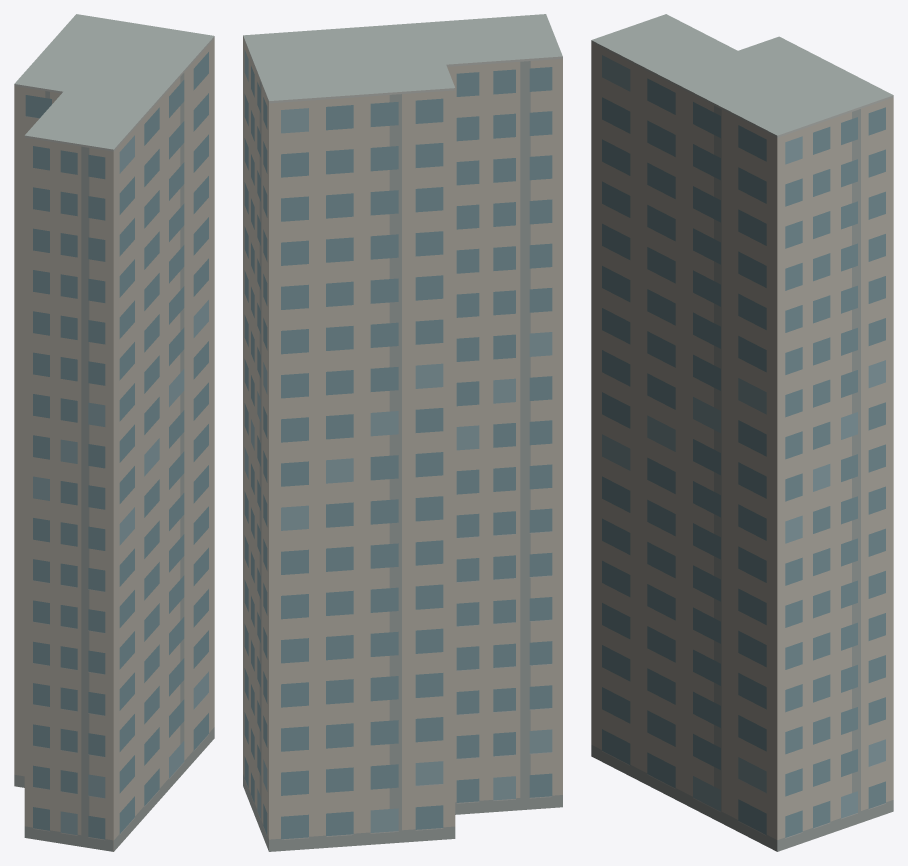
File: residential-17f8a116-d87b-46d9-9f4f-7ead25c6e567.glb
3 views of the same model, side by side, from view 1: azimuth 30°, elevation 25°; view 2: azimuth 150°, elevation 25°; view 3: azimuth 270°, elevation 25° (orthographic). The views are drawn at different scales.
Parts seen in each view (by area): view 1: residential-17f8a116-d87b-46d9-9f4f-7ead25c6e567.tmp; view 2: residential-17f8a116-d87b-46d9-9f4f-7ead25c6e567.tmp; view 3: residential-17f8a116-d87b-46d9-9f4f-7ead25c6e567.tmp.
Part boxes in pixels (x1,y1,x2,y2): residential-17f8a116-d87b-46d9-9f4f-7ead25c6e567.tmp: (14,14,214,851); residential-17f8a116-d87b-46d9-9f4f-7ead25c6e567.tmp: (243,14,562,851); residential-17f8a116-d87b-46d9-9f4f-7ead25c6e567.tmp: (591,14,893,851).
Size of the model in its own units: 29.17 by 80 by 30.63.
